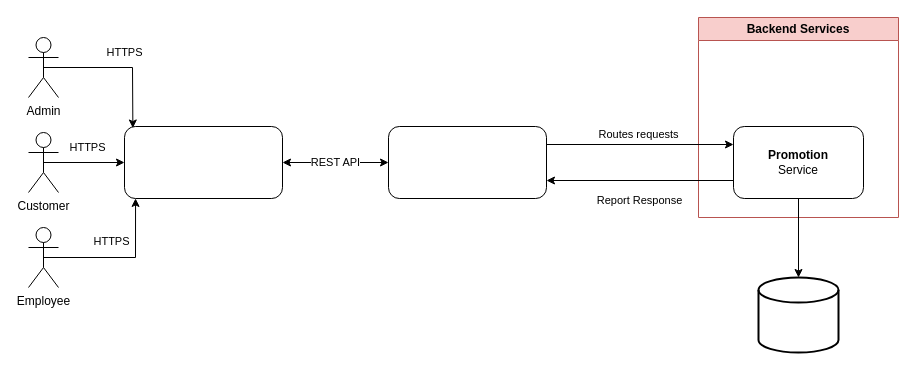
This 916x371 diagram has some shape labels left out. The shapes that lost their labels are listed below. From the top down, each one's centre as x and y in pixels, then its label:
At point 203,162: "React Frontend UI / Client".
At point 467,162: "API Gateway Routing / Auth / Rate Limit".
At point 798,314: "Promotion DB".
